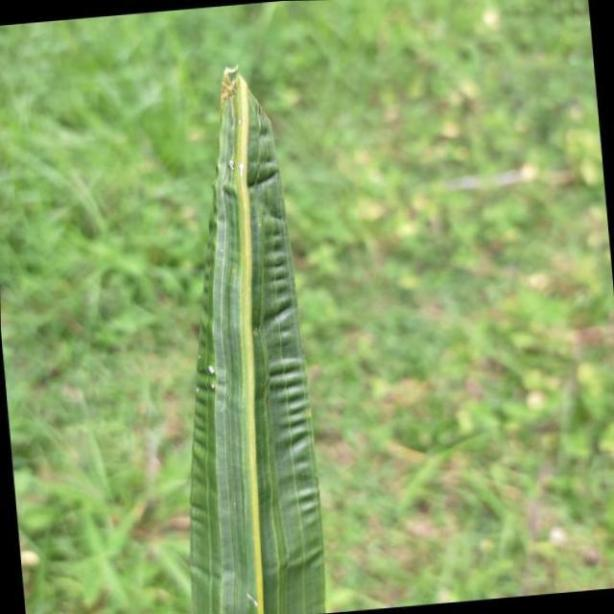Boron: (185, 49, 327, 614)
